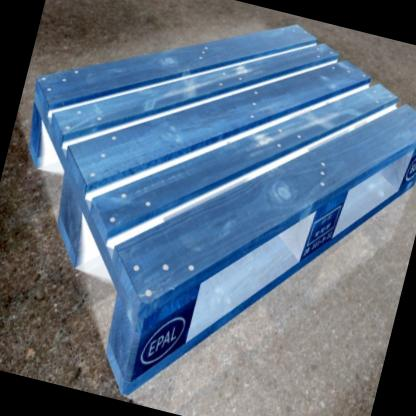BoxFace: (25, 21, 416, 401)
